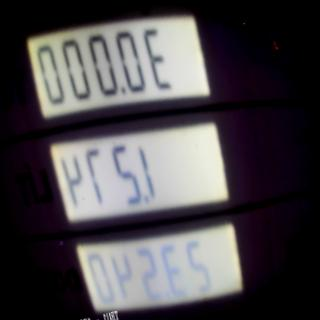screen: (13, 0, 274, 320)
